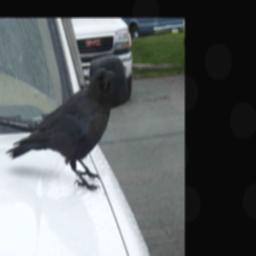Crow: (7, 67, 116, 193)
